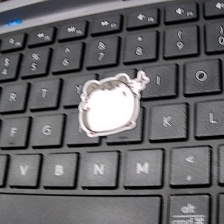mouse: (77, 69, 151, 138)
